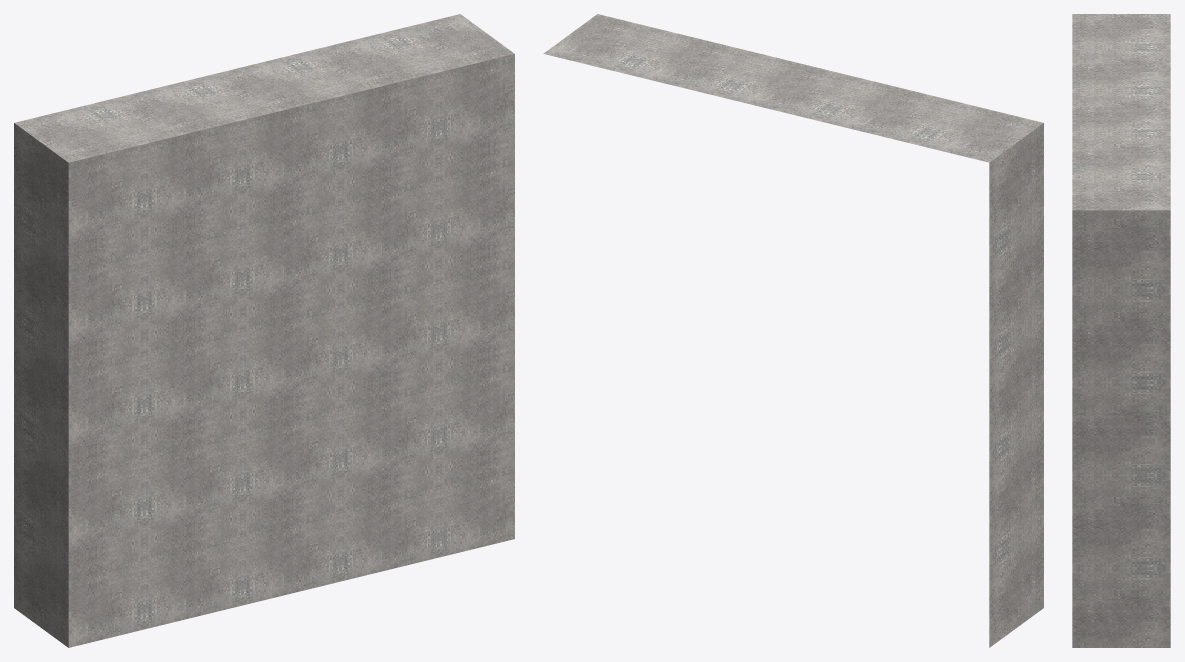
Rendered from jc-sj-206-geode.glb.
3 views of the same model, side by side, from view 1: azimuth 30°, elevation 25°; view 2: azimuth 150°, elevation 25°; view 3: azimuth 270°, elevation 25° (orthographic). The views are drawn at different scales.
Parts seen in each view (by area): view 1: Node; view 2: Node; view 3: Node.
Part boxes in pixels (box(x1,y1,x2,y2)): Node: box(14, 14, 514, 647); Node: box(543, 14, 1043, 647); Node: box(1072, 14, 1170, 647).
Bounding box in the file's own units: 0.3741 × 0.3887 × 0.079.
1 material, 1 textured.
